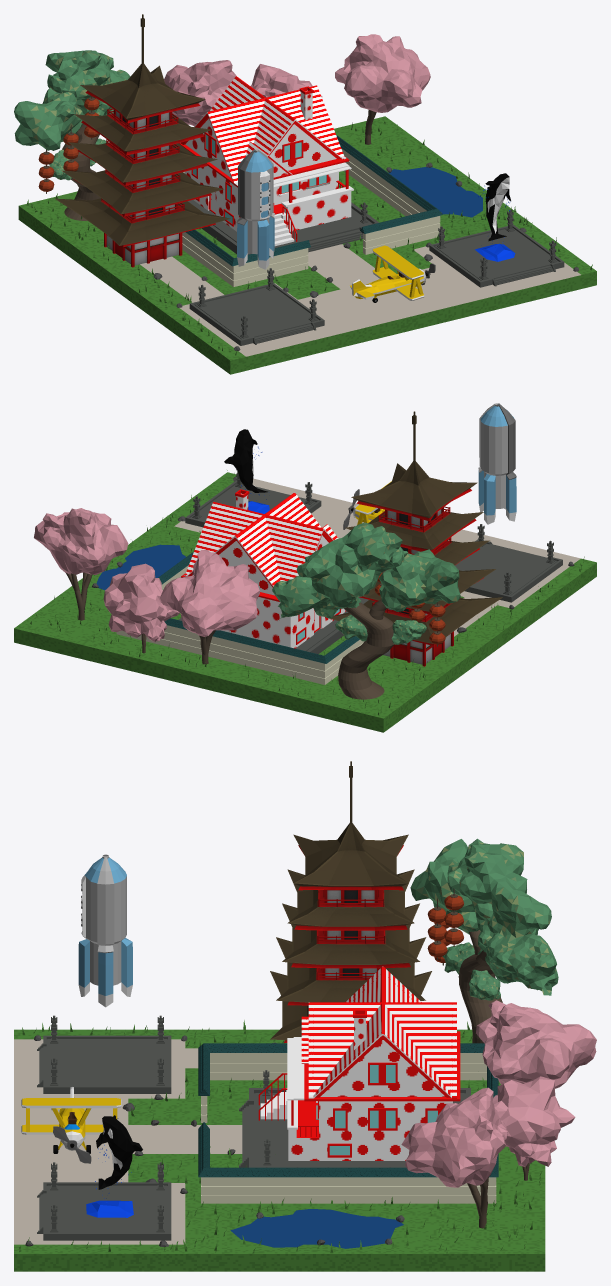
The picture shows the model from 3 angles, top to bottom: view 1: azimuth 30°, elevation 25°; view 2: azimuth 150°, elevation 25°; view 3: azimuth 270°, elevation 25°; orthographic projection. The views are drawn at different scales.
Parts seen in each view (by area): view 1: Cube.005, Cube.196, OBJRANDOM_ROCKETSHIP, VEHICLES_AIRPLANE, ANIMAL_ORCA; view 2: Cube.005, Cube.196, OBJRANDOM_ROCKETSHIP, ANIMAL_ORCA, VEHICLES_AIRPLANE; view 3: Cube.005, Cube.196, OBJRANDOM_ROCKETSHIP, VEHICLES_AIRPLANE, ANIMAL_ORCA.
Boxes of the visible parts, x1,y1,x2,y2 form: Cube.005: (14, 14, 596, 374); Cube.196: (178, 76, 353, 246); OBJRANDOM_ROCKETSHIP: (236, 149, 274, 269); VEHICLES_AIRPLANE: (349, 245, 435, 302); ANIMAL_ORCA: (475, 173, 515, 261); Cube.005: (14, 411, 596, 732); Cube.196: (181, 489, 345, 648); OBJRANDOM_ROCKETSHIP: (478, 403, 516, 524); ANIMAL_ORCA: (224, 429, 269, 513); VEHICLES_AIRPLANE: (343, 481, 391, 529); Cube.005: (14, 761, 596, 1271); Cube.196: (258, 966, 460, 1160); OBJRANDOM_ROCKETSHIP: (78, 854, 132, 1007); VEHICLES_AIRPLANE: (21, 1087, 121, 1163); ANIMAL_ORCA: (86, 1115, 142, 1217).
Size of the model in its own units: 4528 by 2713 by 4389.
41 materials, 7 textured.
